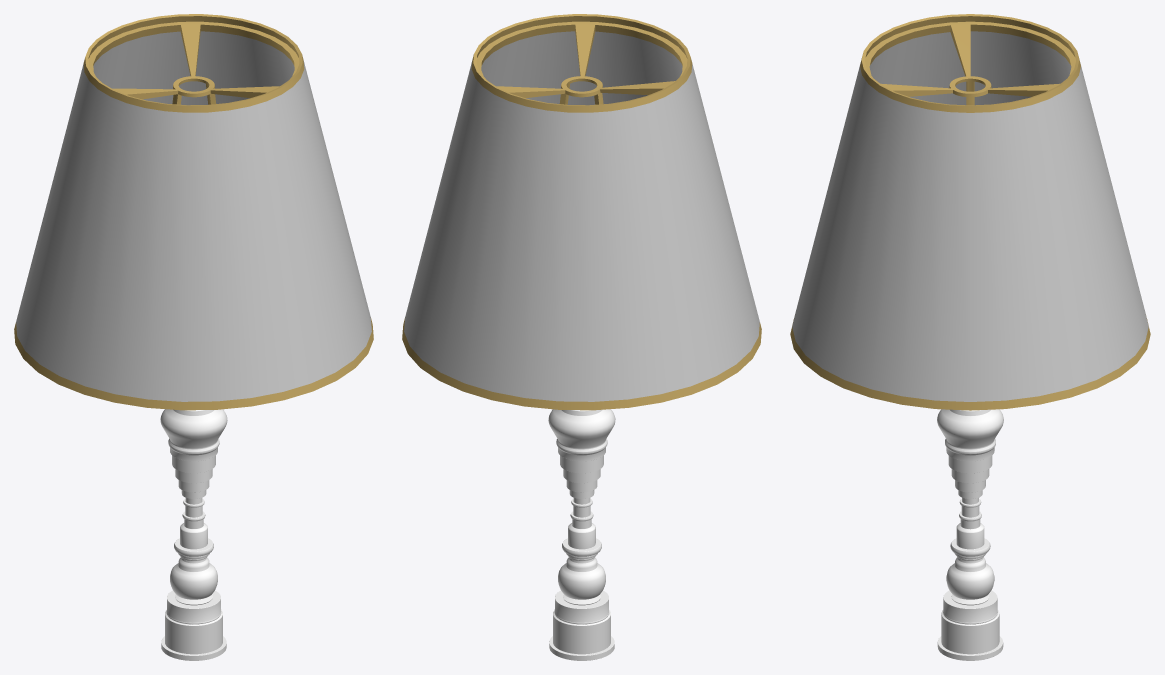
File: table lamp.glb
3 renders of one model, left to right at view 1: azimuth 30°, elevation 25°; view 2: azimuth 150°, elevation 25°; view 3: azimuth 270°, elevation 25°, orthographic.
Visible parts, largest first — view 1: Lampshade, Lamp Base; view 2: Lampshade, Lamp Base; view 3: Lampshade, Lamp Base.
Boxes of the visible parts, box(x1,y1,x2,y2) form: Lampshade: box(14, 14, 373, 410); Lamp Base: box(160, 409, 227, 660); Lampshade: box(402, 14, 761, 410); Lamp Base: box(548, 409, 615, 660); Lampshade: box(790, 14, 1150, 410); Lamp Base: box(937, 409, 1003, 660).
Size of the model in its own units: 1.37 by 2.46 by 1.37.
